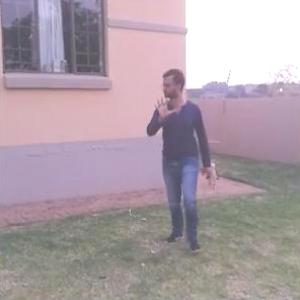follow_hand: (151, 91, 178, 121)
